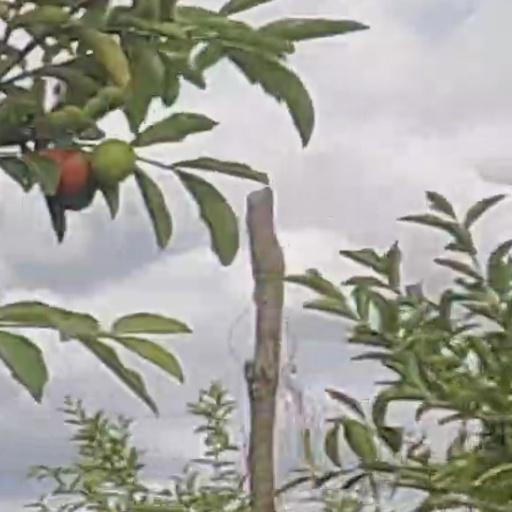acerola: (42, 148, 89, 193), (93, 139, 133, 179)
